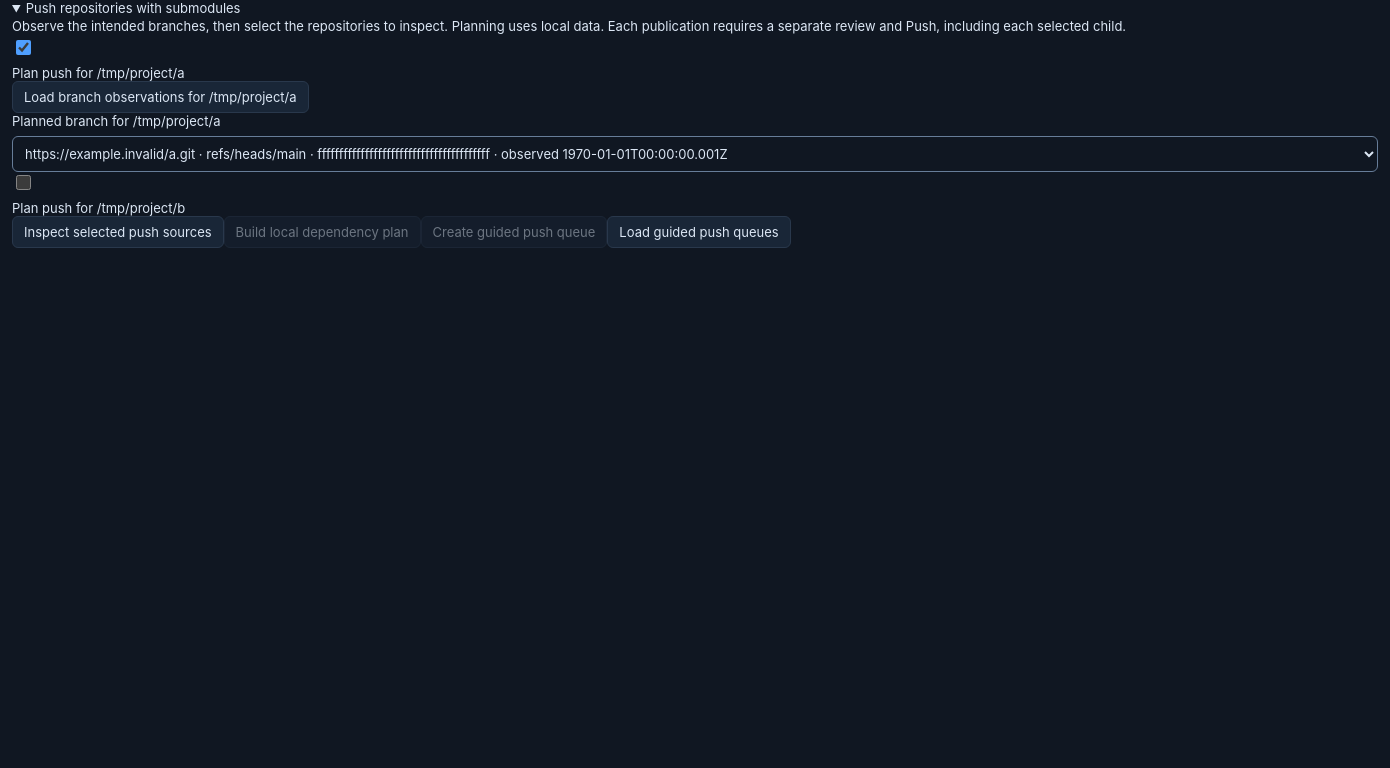
Test: does not auto-select or auto-enroll an unavailable child and sends no network review
Earlier steps of the test are not shown.
Later steps or results of the test are not shown.
Click the button "Inspect selected push sources" at (118,232), box [12,216,224,248]
(page scrolled)
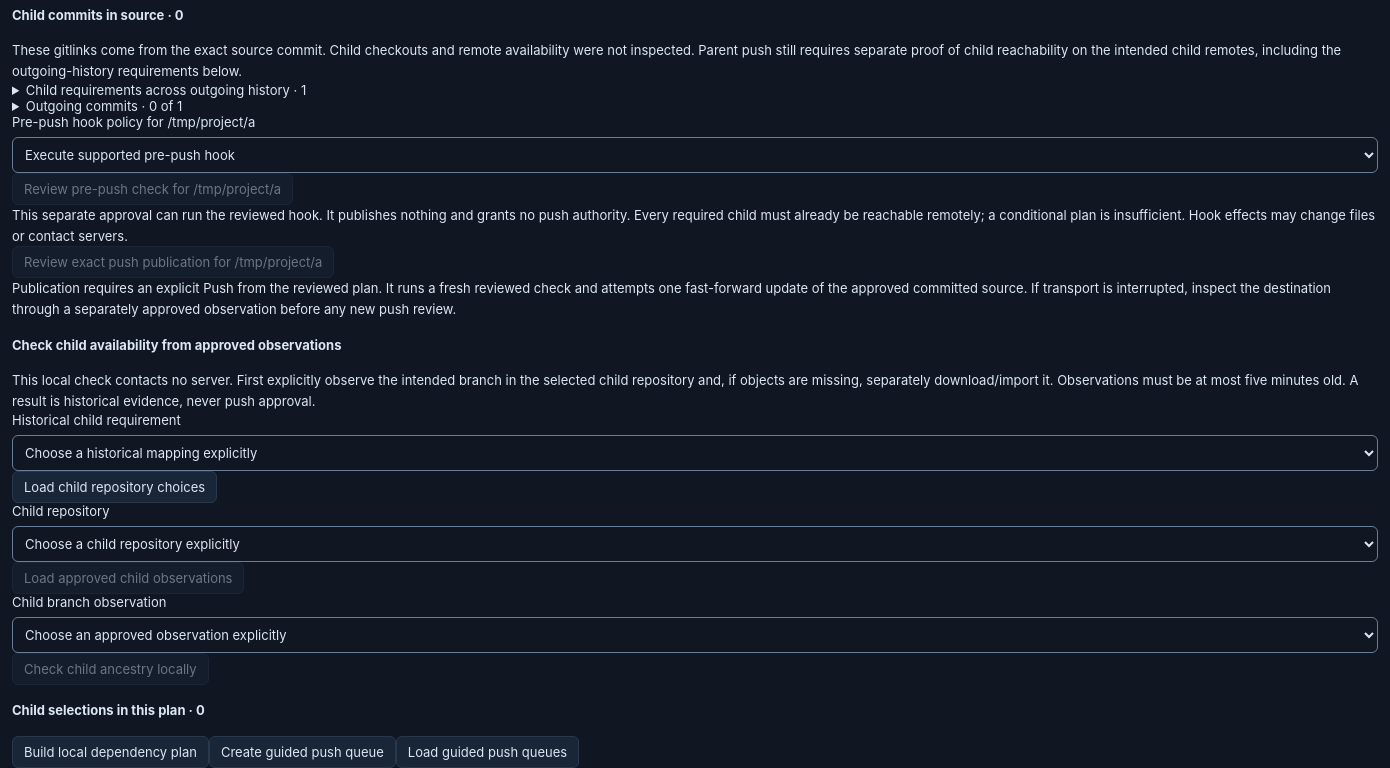
Expected: the heading "Child selections in this plan · 0" is shown, [12,702,205,718]
Select "0" in the dropdown labelled "Historical child requirement" at (695,453), box [12,435,1378,471]
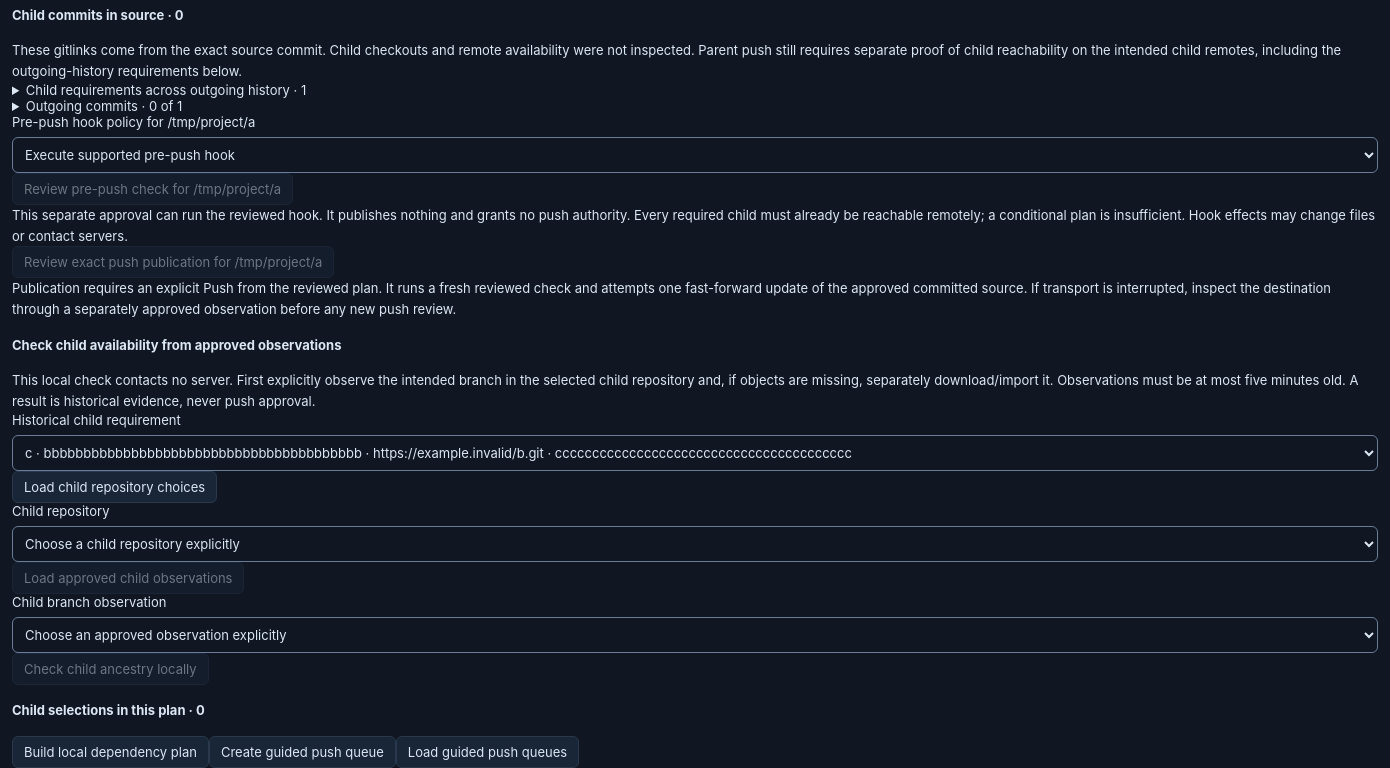
Click the button "Load child repository choices" at (115,487), box [12,471,217,503]
Select "/tmp/project/b" in the dropdown labelled "Child repository" at (695,544), box [12,526,1378,562]
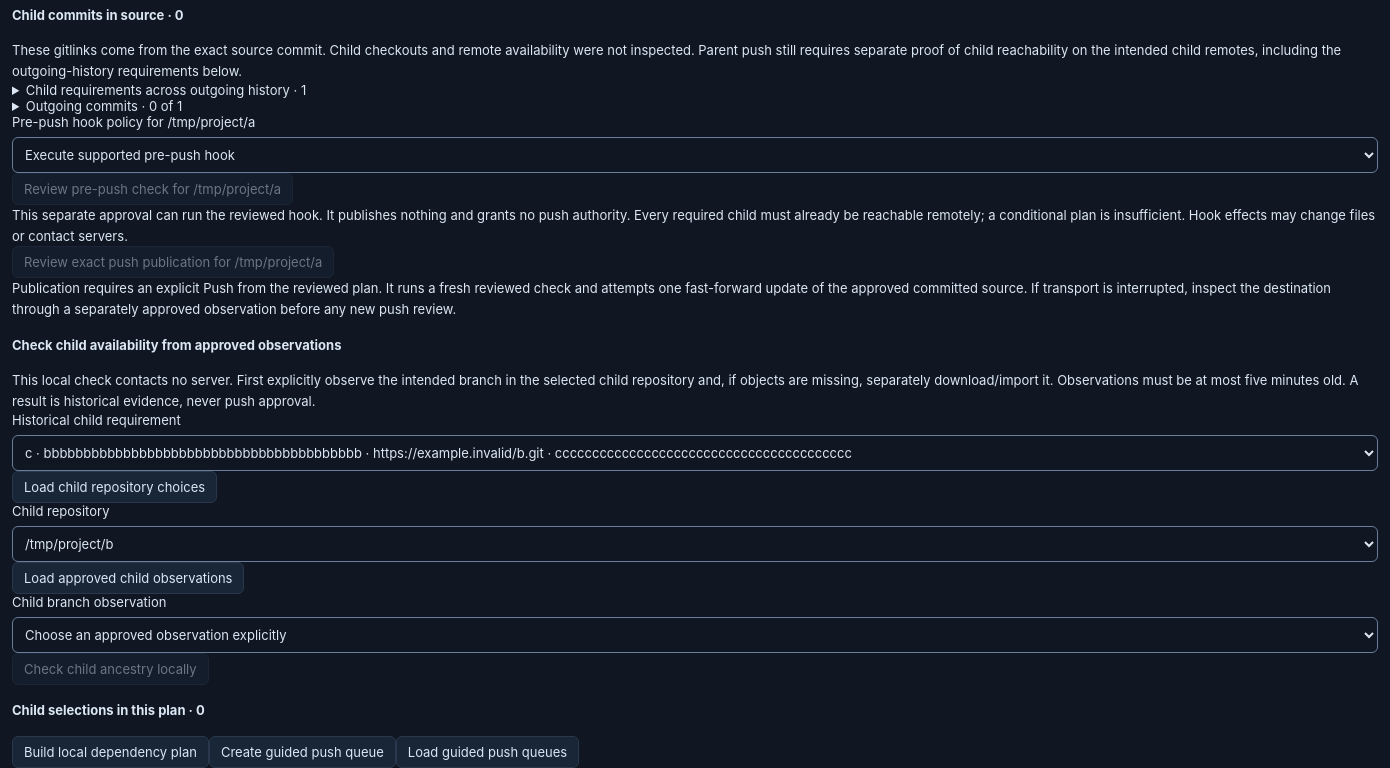
Click the button "Load approved child observations" at (128,578), box [12,562,244,594]
Select "obs-b" in the dropdown labelled "Child branch observation" at (695,635), box [12,617,1378,653]
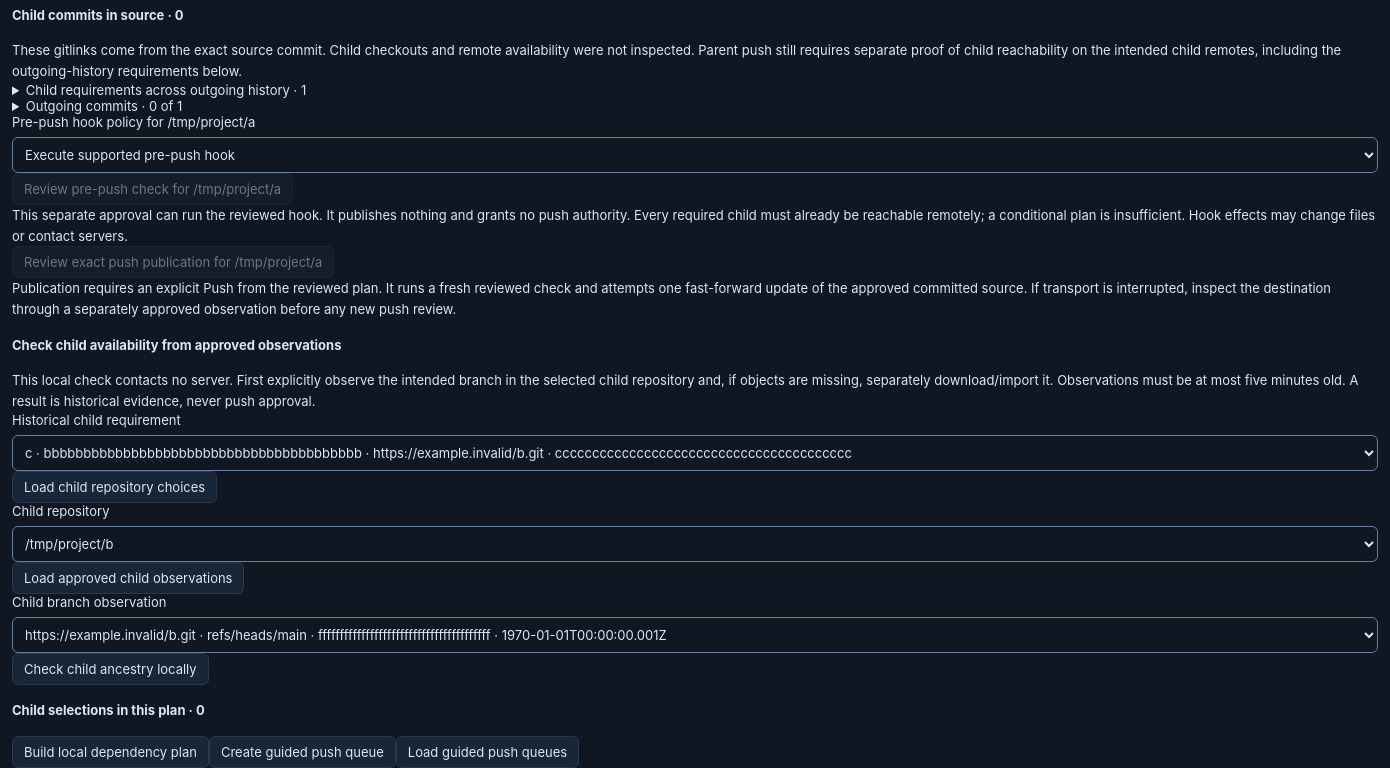
Click the button "Check child ancestry locally" at (110,669), box [12,653,209,685]
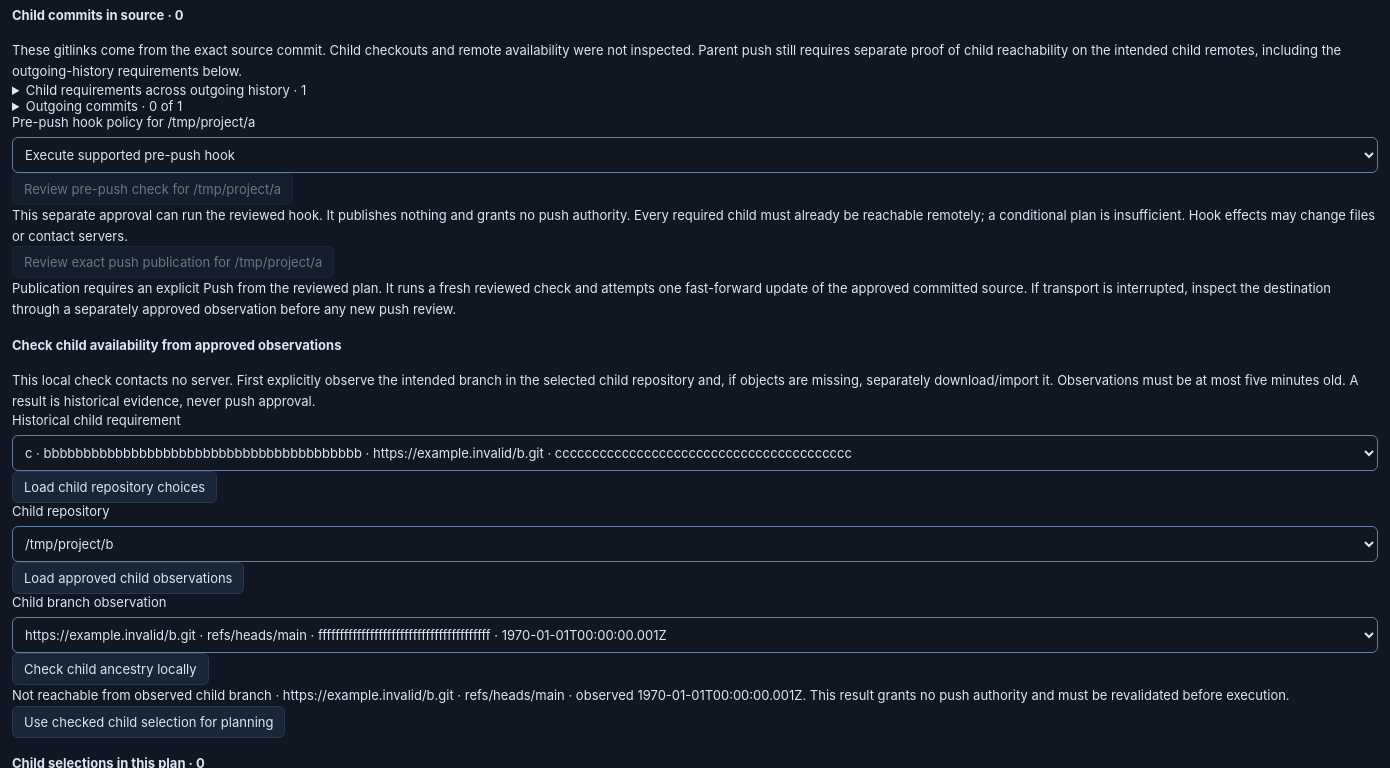
Click the button "Use checked child selection for planning" at (149,722), box [12,706,285,738]
(page scrolled)
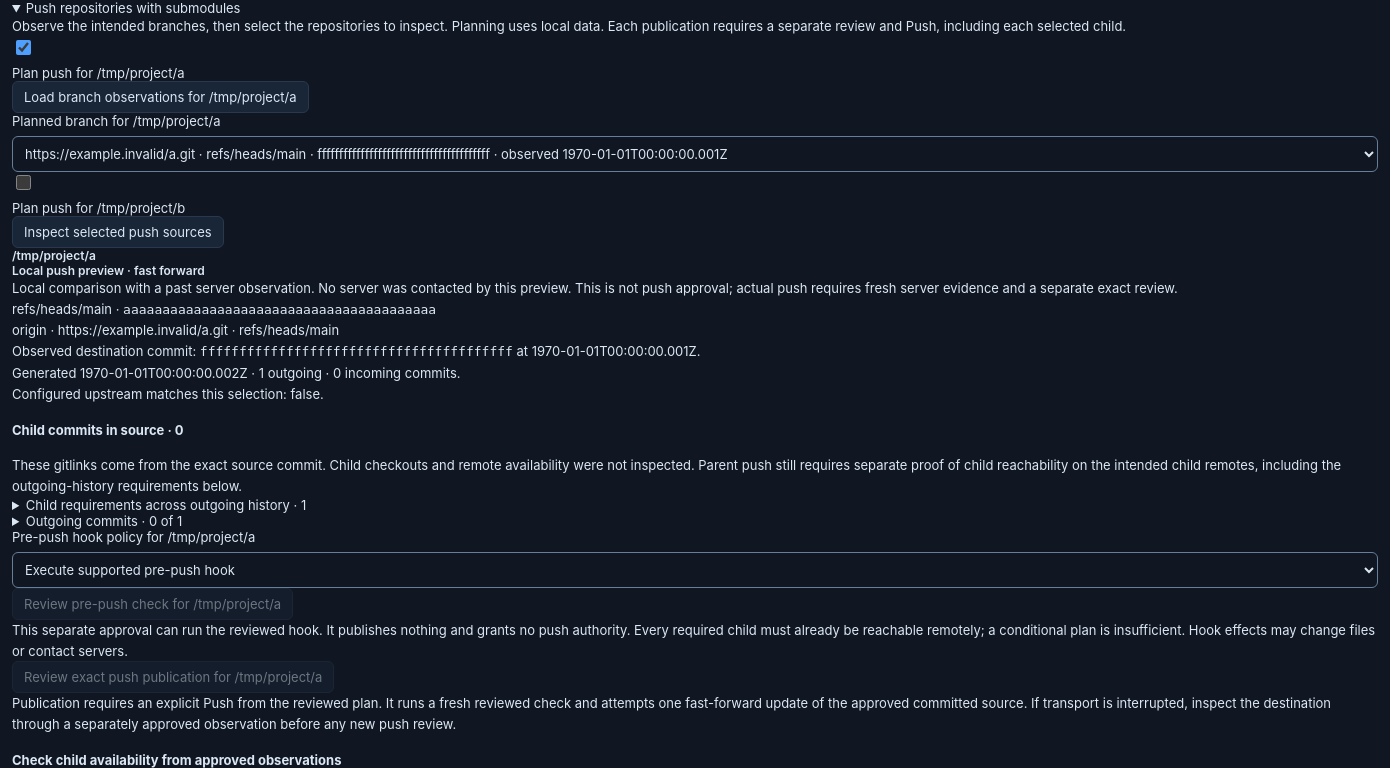
Expected: the checkbox labelled "Plan push for /tmp/project/b" is not checked, [16,175,31,190]
